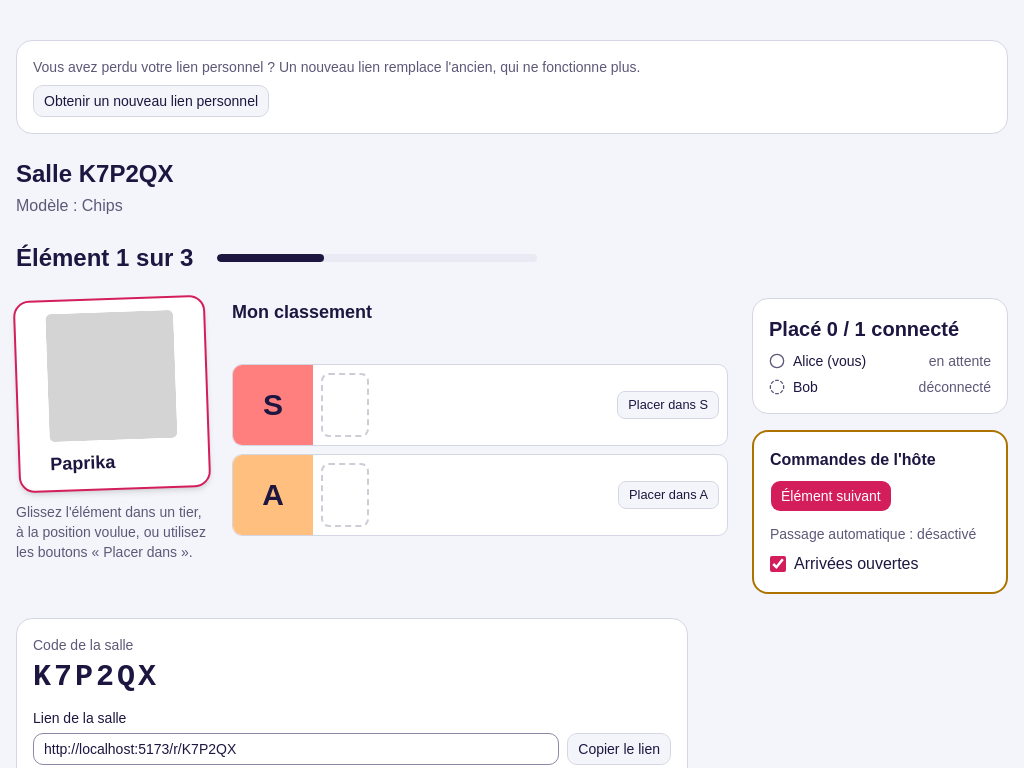
Scenario: GameScreen › places the current item at the end of a tier with its button
Click the button with aria-label "Placer dans S : l'élément en cours, à la fin": point(668, 405) left=617, top=391, right=719, bottom=419
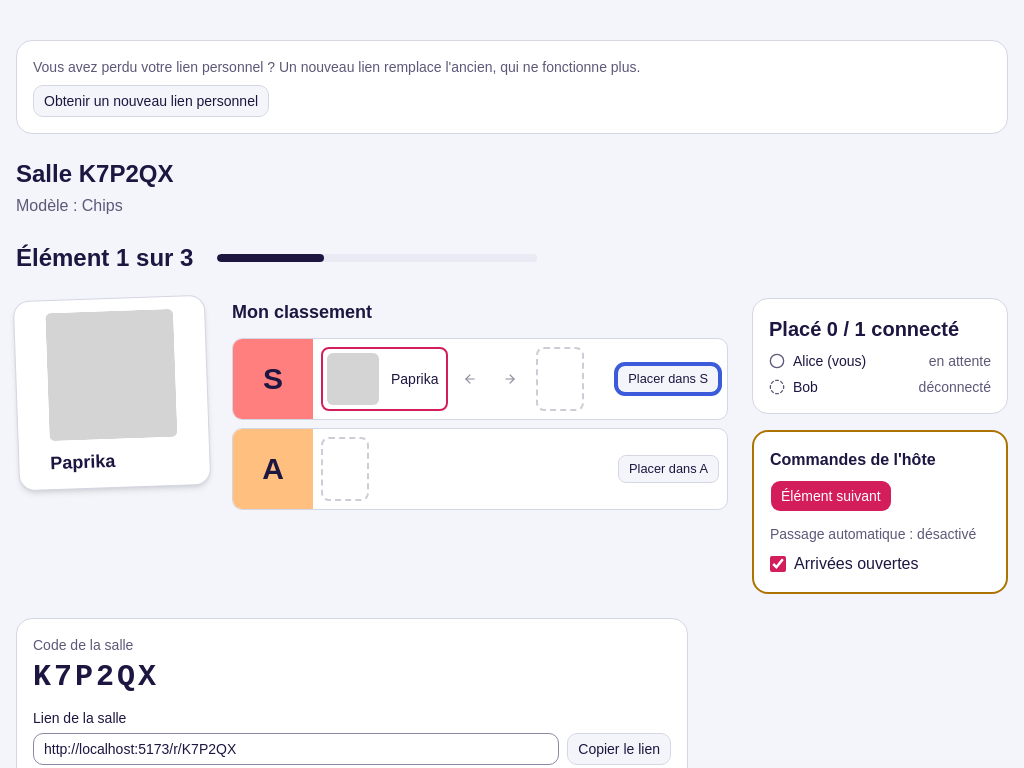
Expected: the 1st text "Paprika" is shown, left=387, top=369, right=442, bottom=389
Expected: the button named "Avancer Paprika dans son tier" is disabled, left=452, top=365, right=488, bottom=393
Expected: the button named "Reculer Paprika dans son tier" is disabled, left=492, top=365, right=528, bottom=393
